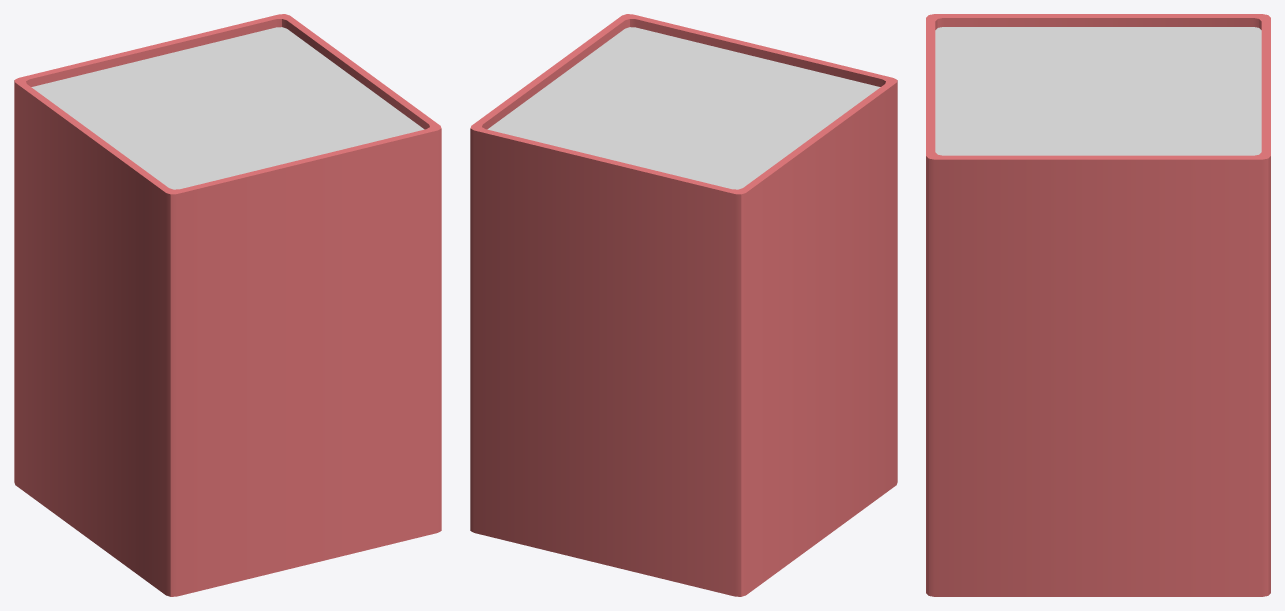
The model's file is display_pendek.fbx.
3 views of the same model, side by side, from view 1: azimuth 30°, elevation 25°; view 2: azimuth 150°, elevation 25°; view 3: azimuth 270°, elevation 25° (orthographic). The views are drawn at different scales.
Visible parts, largest first — view 1: display_pendek; view 2: display_pendek; view 3: display_pendek.
Boxes of the visible parts, left/top/right/bottom form: display_pendek: left=14, top=14, right=441, bottom=596; display_pendek: left=470, top=14, right=897, bottom=596; display_pendek: left=926, top=14, right=1270, bottom=596.
Bounding box in the file's own units: 50 × 70 × 50.
Materials: 2 (1 with a texture image).
